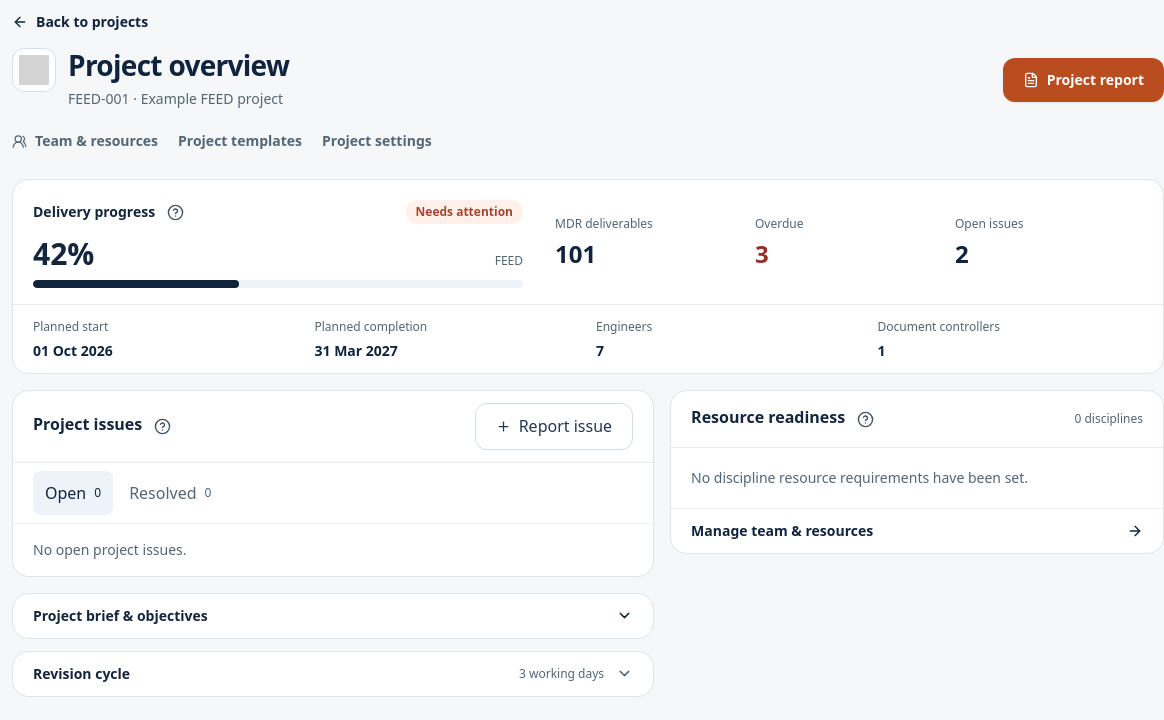
Scenario: compact project overview summary › keeps milestone guidance optional and FEED completion tied to accepted IFD
Focus the button named "Project completion milestones" at (175,212), box [159, 196, 191, 228]
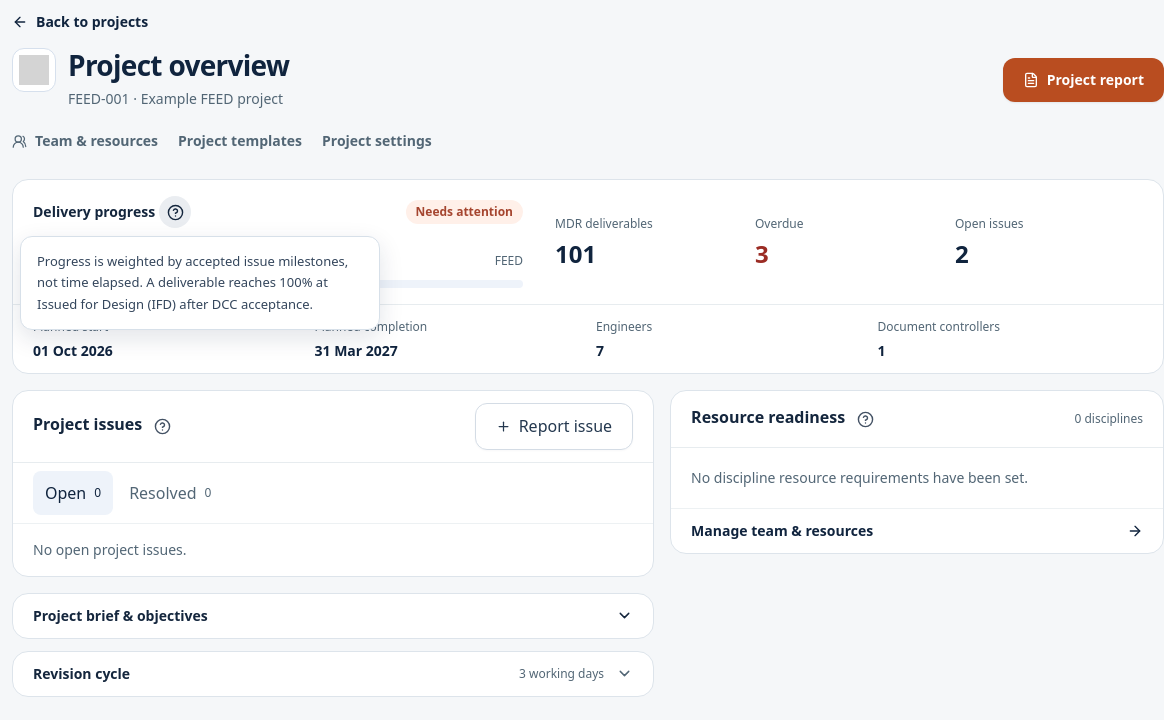
Expected: the tooltip shows "weighted by accepted issue milestones, not time elapsed", [37, 252, 348, 291]
Expected: the tooltip shows "Issued for Design (IFD) after DCC acceptance", [20, 236, 380, 330]
